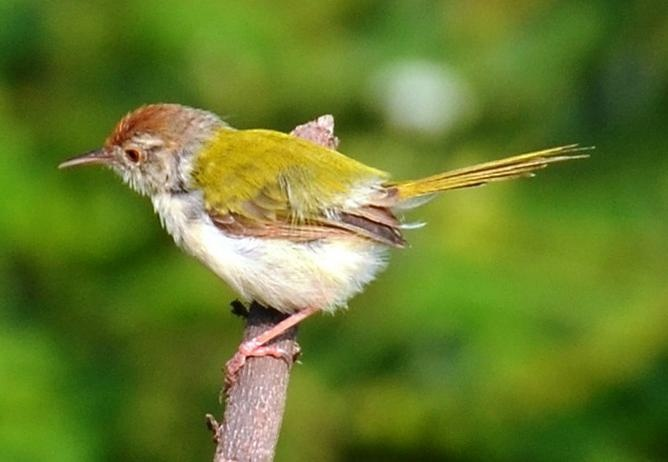tailorbird: (51, 81, 602, 332)
